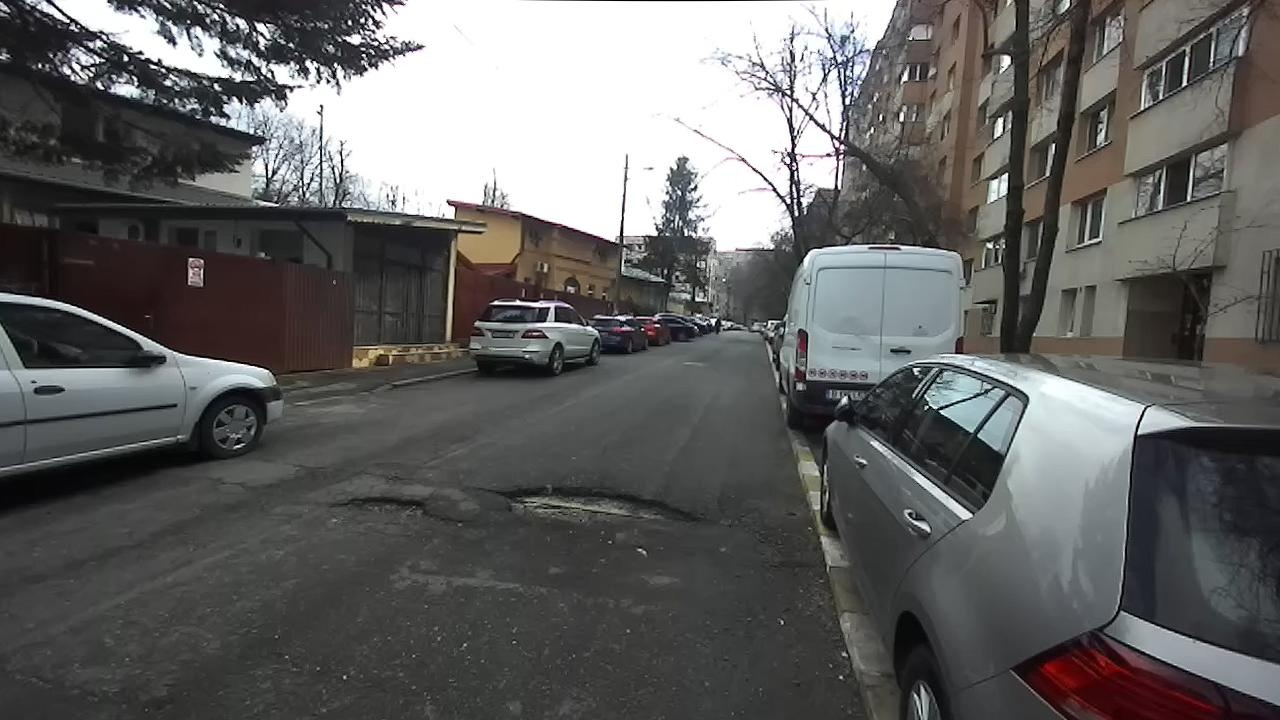pothole: (475, 477, 719, 534), (328, 493, 472, 527)
